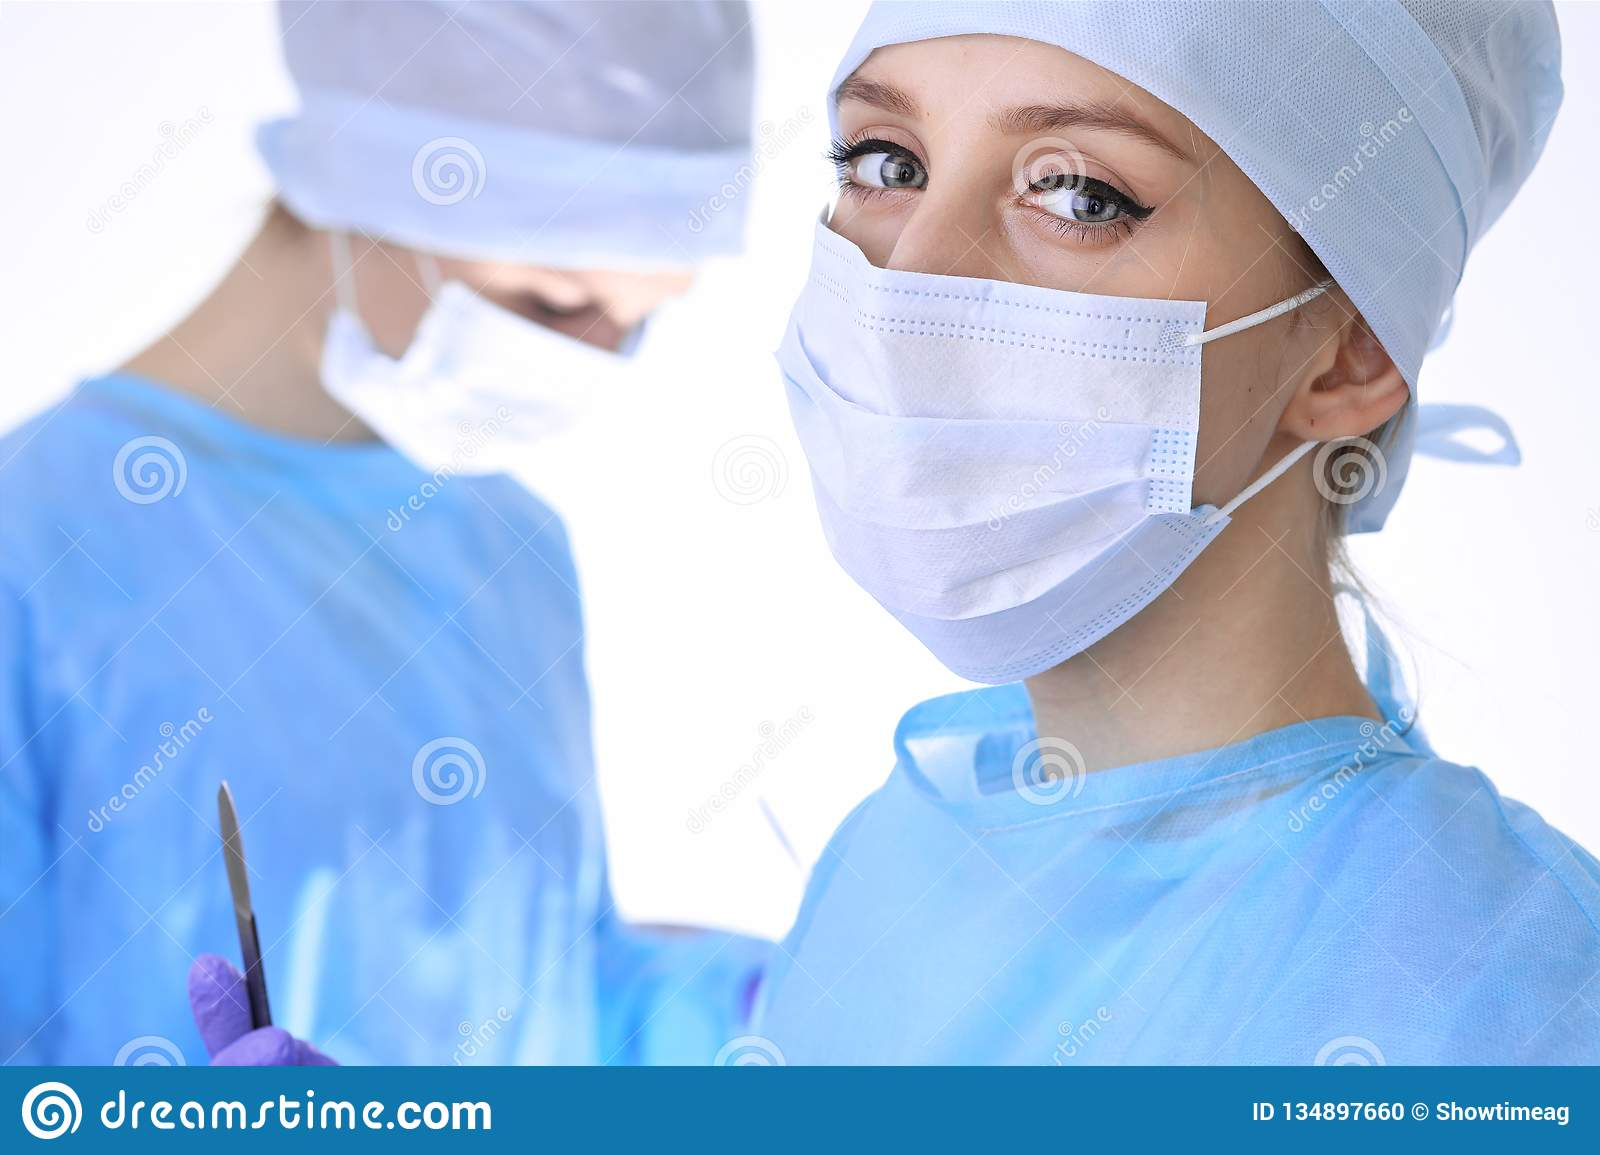mask: (760, 253, 1243, 645)
